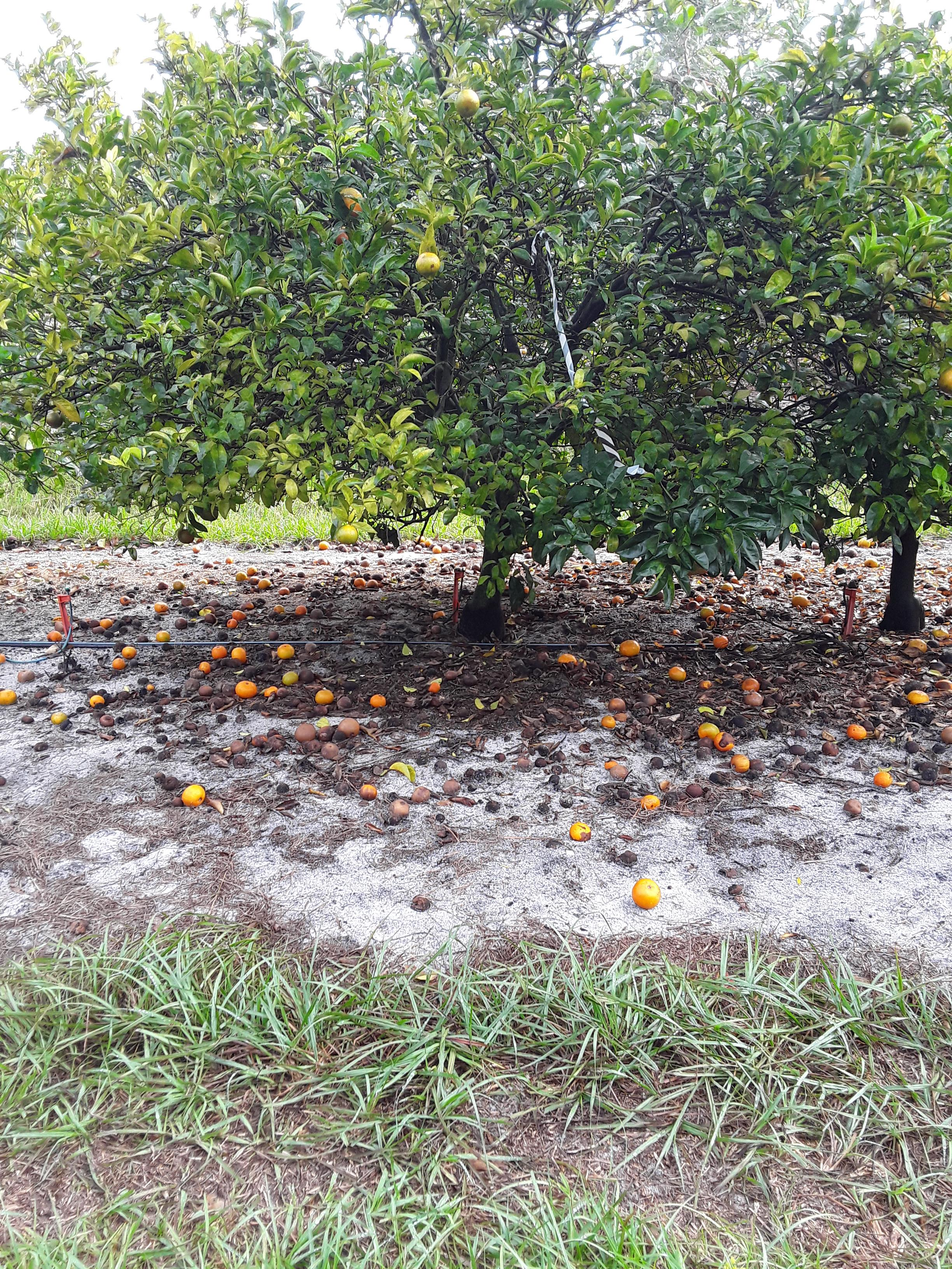fruit_on_ground: (335, 184, 368, 217), (451, 86, 483, 118), (413, 248, 445, 278), (922, 286, 952, 317), (886, 111, 916, 139), (804, 165, 835, 192), (196, 499, 223, 524), (335, 521, 359, 545), (847, 484, 868, 509), (936, 362, 952, 394), (331, 228, 354, 248), (808, 510, 828, 531), (44, 409, 66, 428), (177, 528, 194, 543)
fruit_on_tree: (631, 876, 663, 910), (181, 782, 207, 808), (902, 636, 930, 656), (293, 721, 318, 743), (569, 820, 592, 843), (387, 799, 411, 820), (336, 717, 360, 737), (918, 759, 940, 780), (730, 752, 751, 774), (698, 720, 721, 740), (235, 678, 258, 698), (410, 892, 432, 912), (618, 638, 641, 657), (905, 688, 929, 706), (845, 722, 867, 741), (639, 792, 661, 811), (742, 689, 765, 707), (697, 734, 716, 755), (714, 732, 735, 751), (842, 797, 862, 816), (873, 769, 893, 788), (410, 785, 430, 804), (667, 664, 688, 682), (318, 742, 340, 759), (442, 776, 461, 795), (359, 782, 378, 801), (620, 849, 640, 867), (275, 643, 295, 661), (740, 676, 761, 693), (316, 723, 335, 741), (0, 687, 18, 706), (314, 687, 334, 704), (556, 650, 577, 666), (904, 736, 922, 754), (49, 709, 68, 726), (819, 741, 838, 758), (280, 669, 299, 686), (732, 701, 752, 717), (609, 763, 629, 779), (685, 782, 705, 798), (16, 667, 36, 683), (231, 645, 249, 662), (210, 643, 228, 660), (227, 737, 246, 753), (789, 741, 808, 757), (932, 678, 951, 694), (299, 667, 318, 683), (210, 752, 230, 767), (608, 696, 626, 712), (369, 692, 387, 708), (231, 752, 250, 767), (730, 713, 749, 728), (791, 593, 810, 608), (938, 725, 952, 745), (600, 713, 617, 729), (521, 725, 539, 740), (905, 777, 923, 792), (88, 692, 106, 707), (751, 756, 767, 772), (844, 577, 861, 592), (274, 780, 291, 795), (514, 753, 531, 768), (98, 712, 115, 727), (252, 732, 268, 747), (227, 612, 243, 627), (111, 655, 127, 670), (31, 739, 48, 753), (856, 535, 873, 549), (262, 684, 279, 698), (712, 634, 729, 648), (243, 597, 259, 611), (269, 738, 285, 752), (649, 755, 665, 769), (604, 759, 620, 773), (699, 605, 715, 619), (99, 615, 115, 629), (47, 628, 63, 642), (198, 683, 214, 697), (121, 645, 137, 659), (365, 577, 382, 590), (154, 629, 171, 642), (657, 778, 672, 792), (536, 743, 551, 757), (200, 610, 215, 624), (173, 616, 188, 630), (197, 660, 212, 674), (171, 579, 186, 593), (257, 576, 272, 590), (238, 601, 254, 614), (533, 649, 549, 662), (716, 602, 732, 615), (154, 601, 170, 614), (940, 603, 952, 620), (270, 730, 284, 744), (428, 679, 442, 693), (304, 639, 319, 652), (444, 668, 459, 681), (352, 575, 367, 588), (460, 794, 476, 806), (863, 556, 879, 568), (178, 596, 194, 608), (309, 607, 326, 618), (486, 799, 500, 812), (553, 749, 567, 762), (614, 711, 628, 724), (156, 579, 170, 592), (224, 616, 238, 629), (293, 603, 307, 616), (684, 600, 699, 612), (793, 728, 808, 740), (698, 678, 713, 690), (442, 540, 457, 552), (32, 687, 47, 699), (431, 608, 446, 620), (316, 538, 329, 551), (576, 741, 590, 753), (463, 766, 477, 778), (819, 612, 833, 624), (418, 535, 432, 547), (718, 582, 732, 594), (430, 543, 444, 555), (694, 593, 709, 604), (266, 628, 279, 640), (494, 750, 507, 762), (611, 594, 624, 606), (20, 713, 33, 725), (273, 603, 286, 615), (245, 566, 258, 578), (234, 569, 248, 580), (520, 583, 532, 595), (118, 594, 130, 606), (190, 543, 202, 555), (773, 556, 786, 567), (360, 559, 373, 570), (791, 570, 803, 581), (278, 585, 291, 595), (0, 651, 10, 664), (144, 682, 156, 692), (203, 559, 215, 568), (224, 556, 234, 565)
